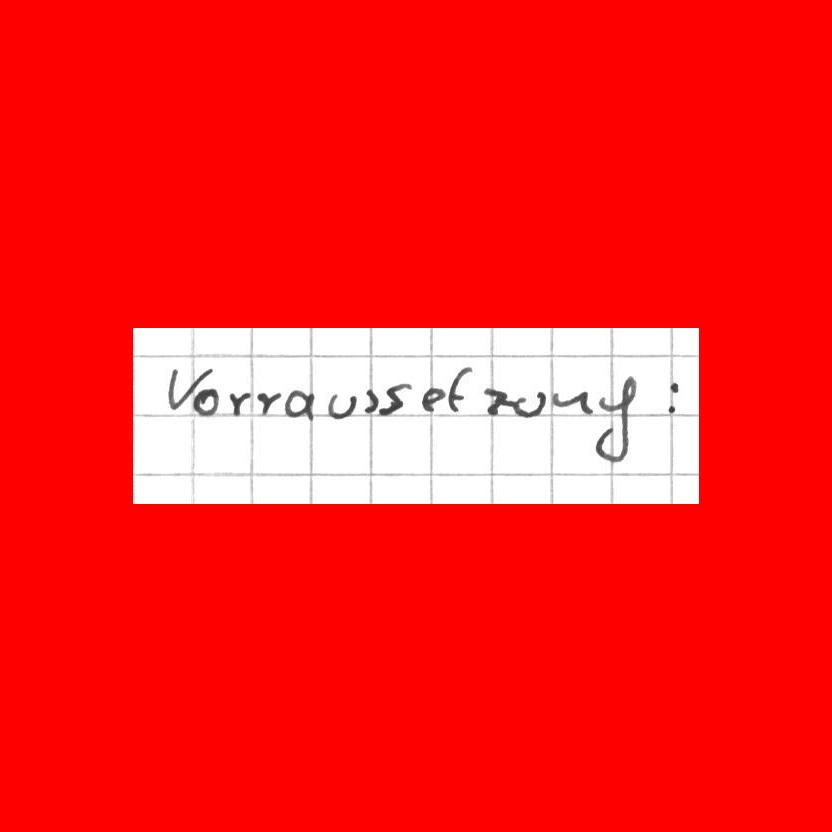Char: (592, 369, 637, 464), (164, 364, 207, 411), (447, 364, 471, 413), (511, 388, 546, 418), (381, 381, 411, 415), (552, 387, 588, 414), (284, 388, 314, 420), (325, 391, 356, 421), (192, 387, 219, 417), (482, 385, 505, 417), (420, 386, 445, 413), (664, 378, 682, 415), (256, 390, 280, 416), (228, 390, 249, 417), (363, 389, 378, 414)
